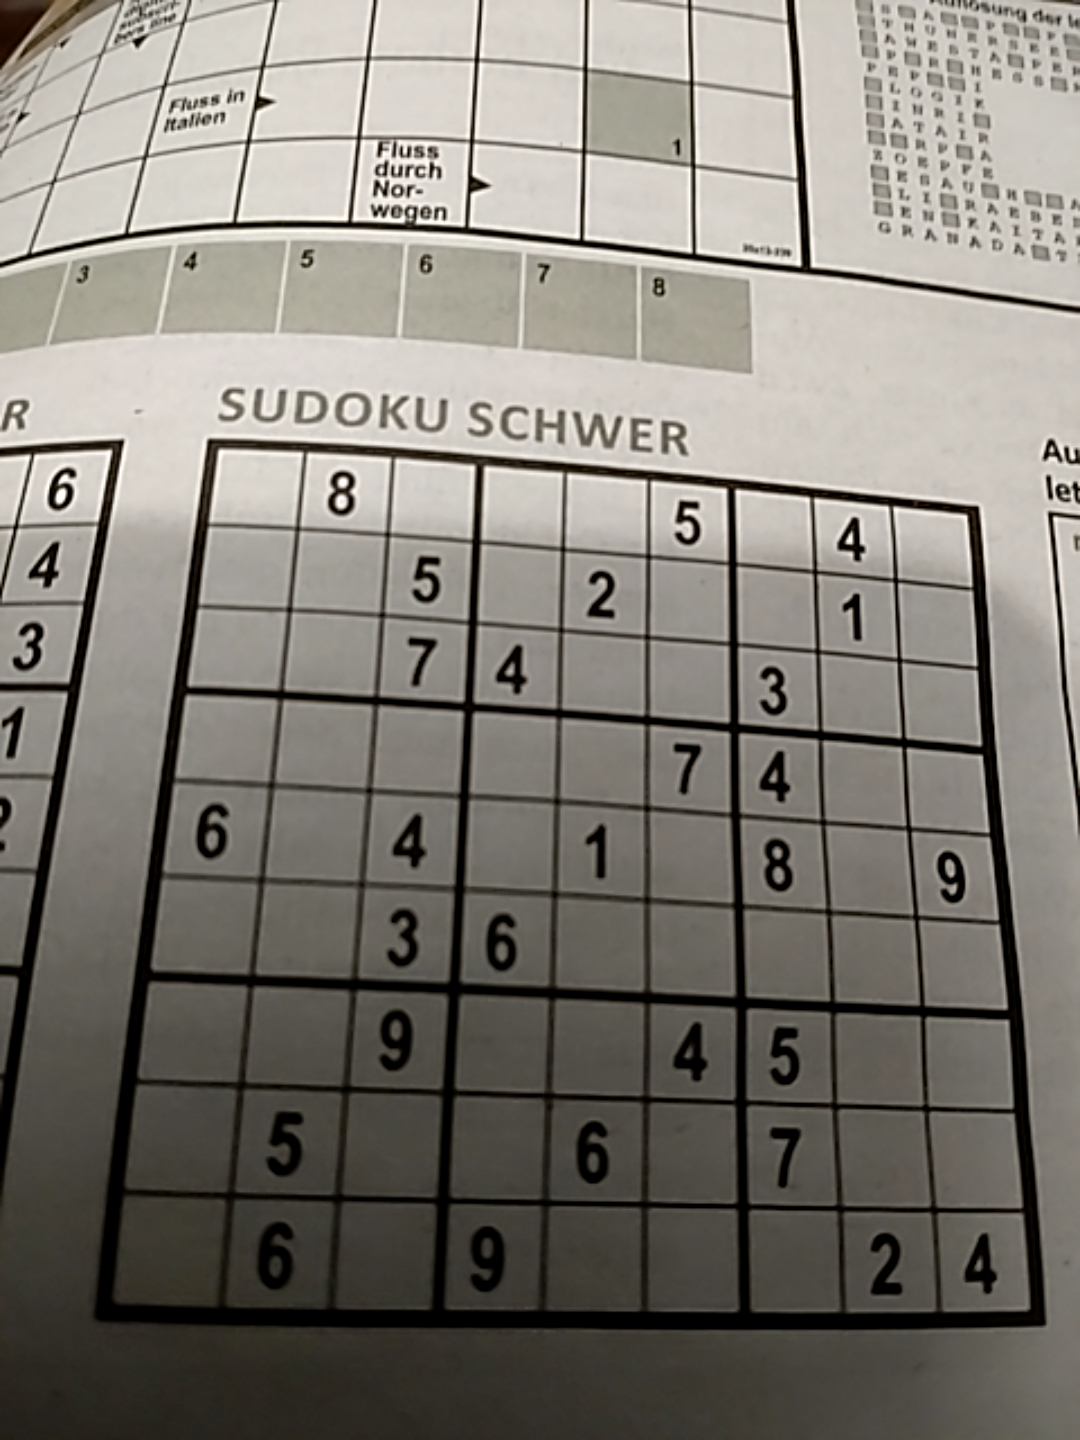sudoku: (97, 435, 1046, 1334)
